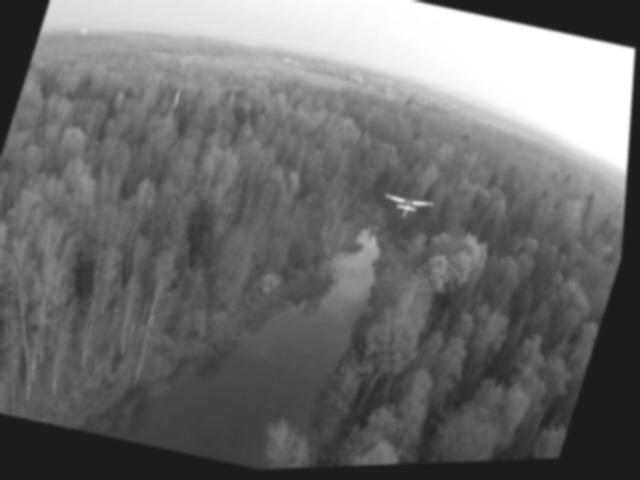hedef: (374, 184, 446, 235)
